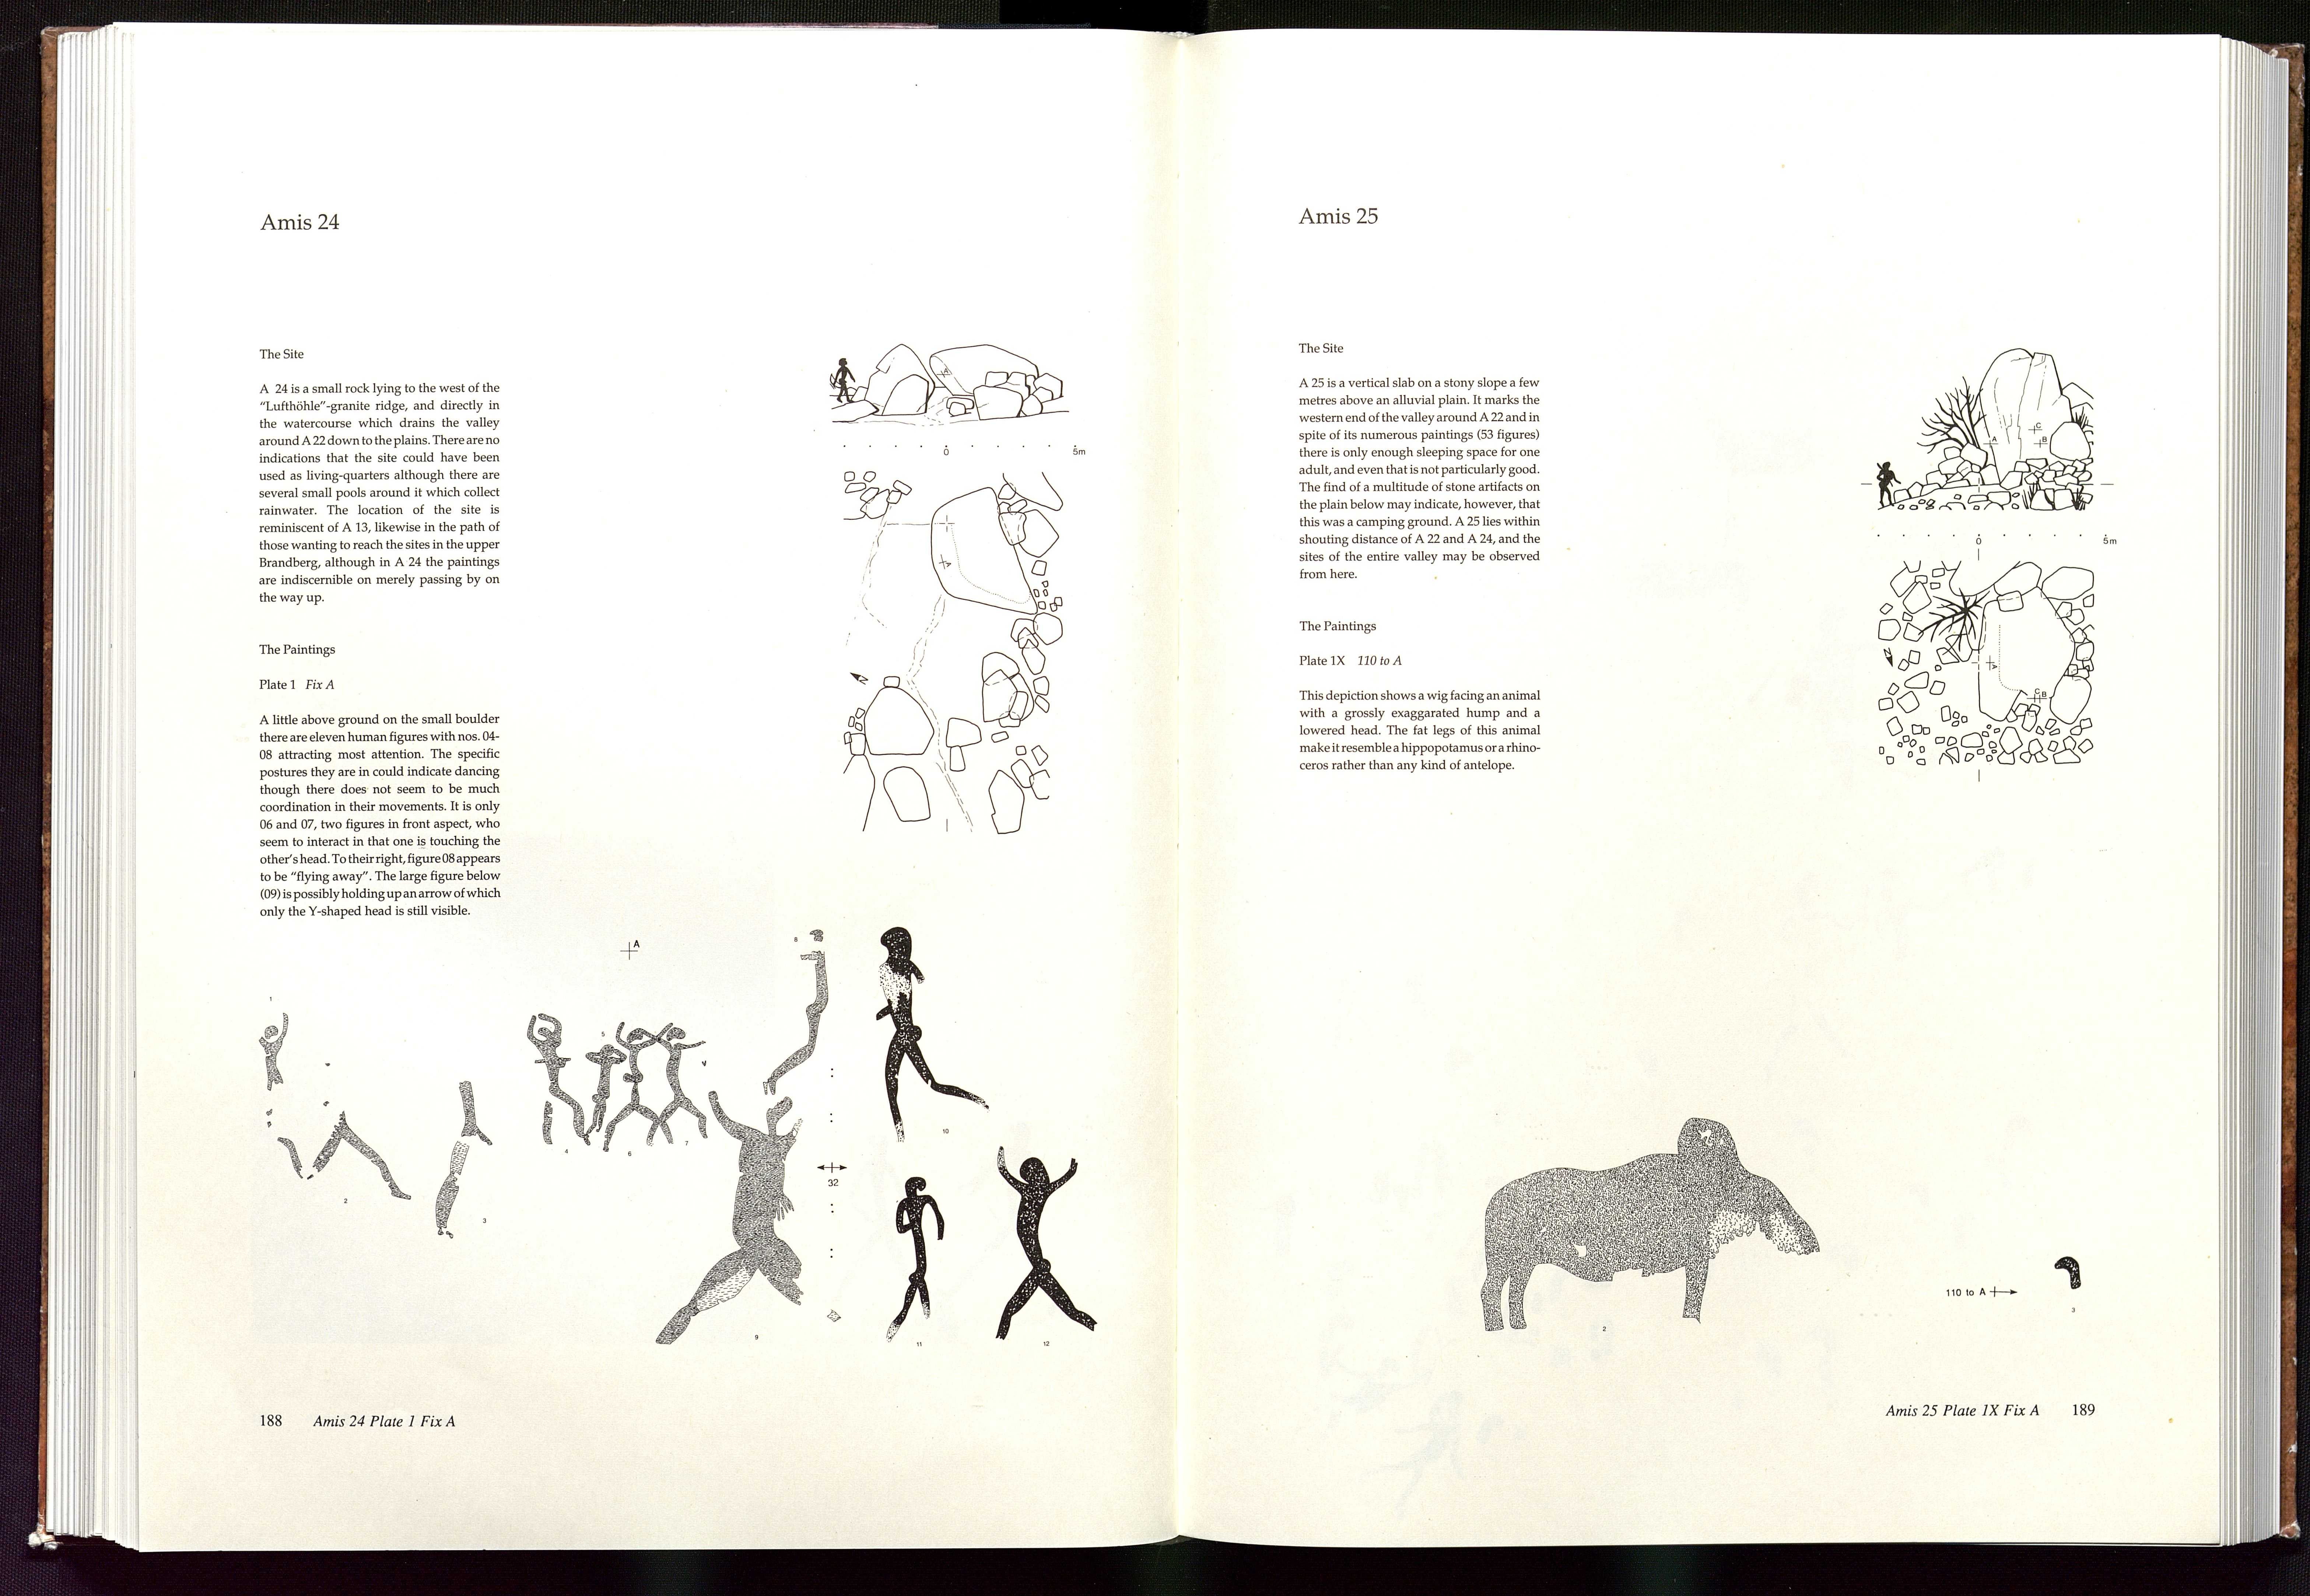animal: (1453, 1108, 1824, 1332)
human: (652, 1099, 849, 1349), (876, 922, 999, 1136), (989, 1143, 1102, 1347), (304, 1091, 419, 1217), (756, 922, 834, 1094), (437, 1069, 503, 1273), (252, 988, 309, 1192), (596, 1025, 677, 1160), (633, 1023, 716, 1150), (888, 1175, 945, 1344), (525, 1008, 591, 1145), (586, 1037, 616, 1150)
